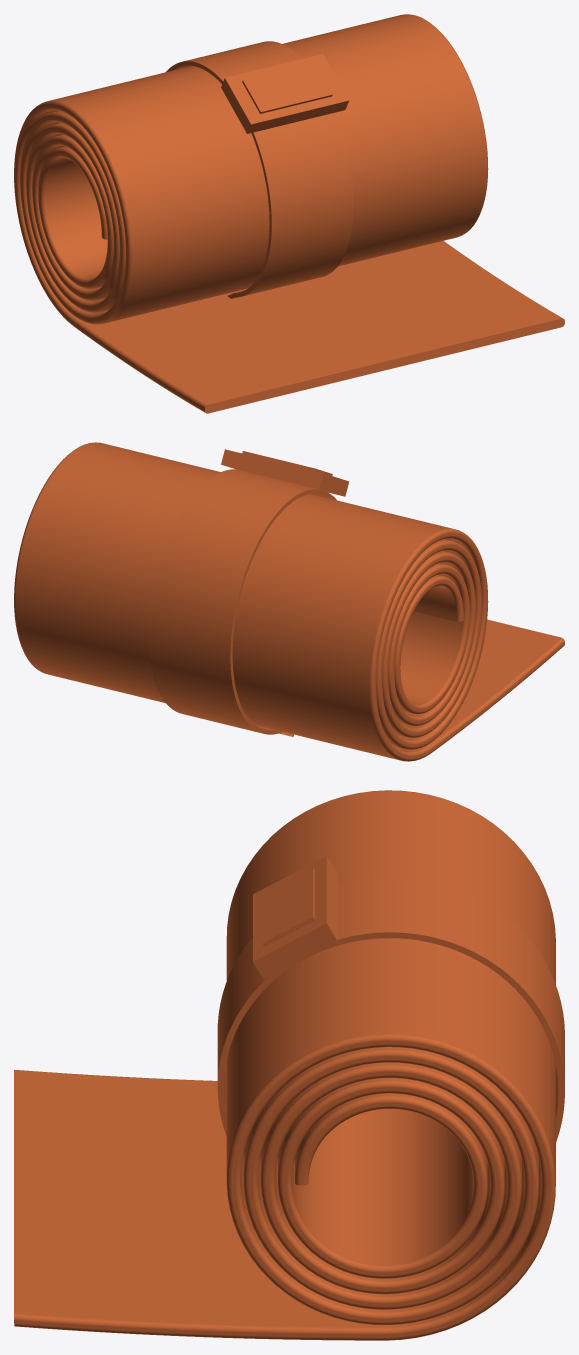
File: SRZ_Splint.fbx
3 renders of one model, top to bottom at view 1: azimuth 30°, elevation 25°; view 2: azimuth 150°, elevation 25°; view 3: azimuth 270°, elevation 25°, orthographic. The views are drawn at different scales.
Visible parts, largest first — view 1: Splint; view 2: Splint; view 3: Splint.
Part boxes in pixels (x1,y1,x2,y2): Splint: [14, 14, 564, 413]; Splint: [14, 442, 564, 761]; Splint: [14, 790, 564, 1340].
Size of what is drawn, in the model's own units: 11 by 7.3 by 10.34.
